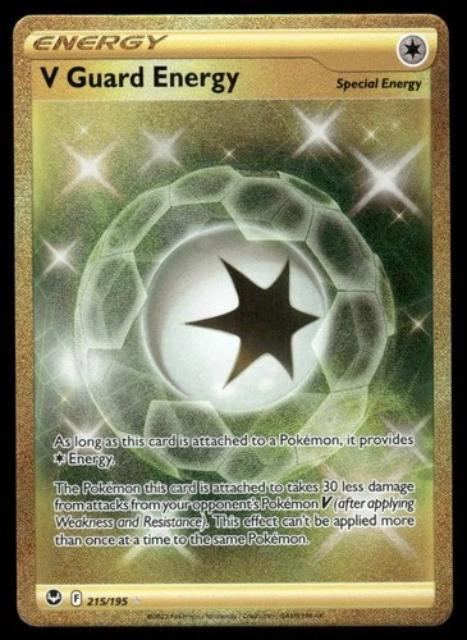Card: (6, 9, 458, 631)
Name: (33, 60, 245, 101)
